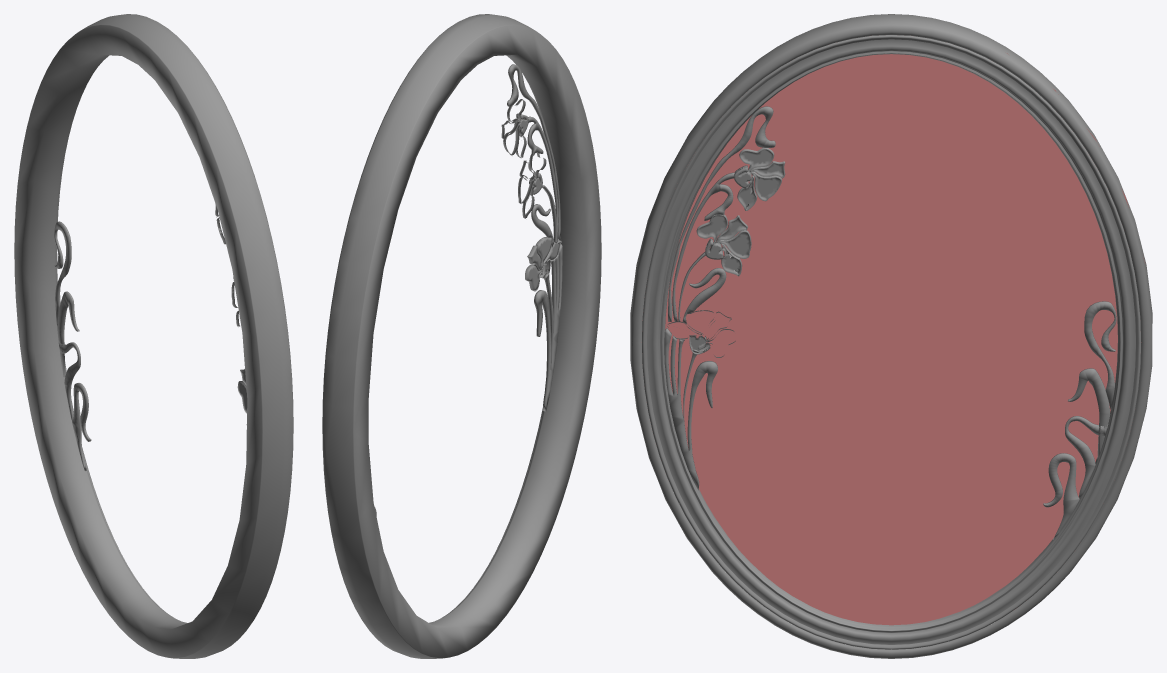
Rendered from mirror2.gltf.
The picture shows the model from 3 angles, left to right: view 1: azimuth 30°, elevation 25°; view 2: azimuth 150°, elevation 25°; view 3: azimuth 270°, elevation 25°; orthographic projection. The views are drawn at different scales.
Visible parts, largest first — view 1: mirror2; view 2: mirror2; view 3: mirror2.
Part boxes in pixels (box(x1,y1,x2,y2)): mirror2: box(14, 14, 293, 658); mirror2: box(322, 14, 601, 658); mirror2: box(630, 14, 1152, 658).
Bounding box in the file's own units: 0.1001 × 1.8 × 1.34.
